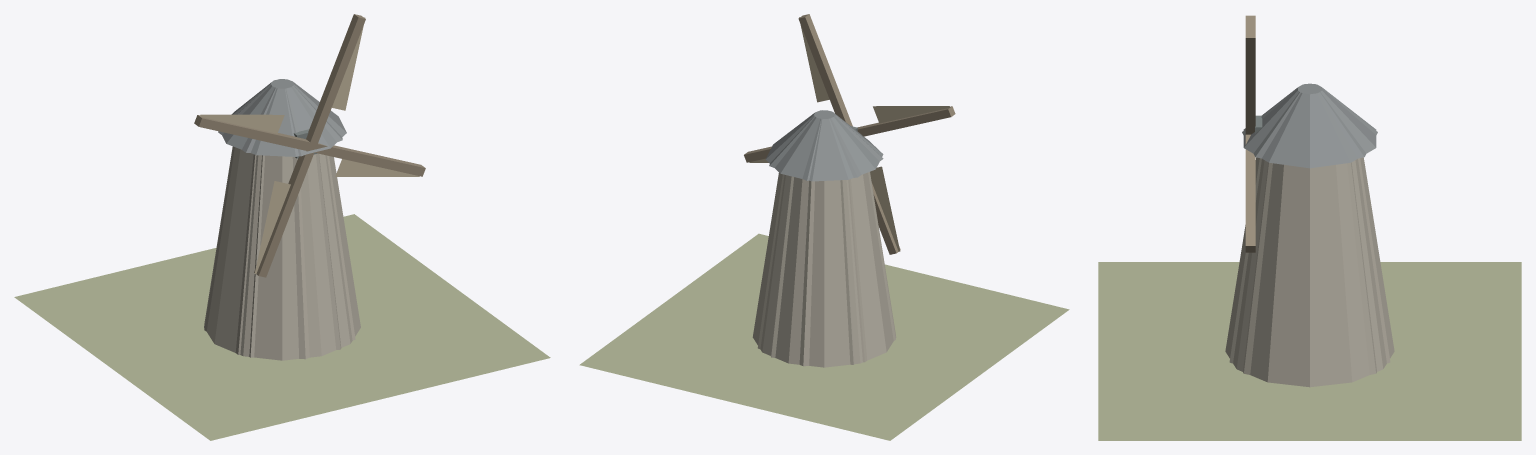
3 views of the same model, side by side, from view 1: azimuth 30°, elevation 25°; view 2: azimuth 150°, elevation 25°; view 3: azimuth 270°, elevation 25° (orthographic). The views are drawn at different scales.
Parts seen in each view (by area): view 1: Near, Mid, Far; view 2: Near, Mid, Far; view 3: Near, Mid, Far.
Boxes of the visible parts, x1,y1,x2,y2 form: Near: (14, 14, 550, 440); Mid: (204, 79, 355, 359); Far: (204, 79, 341, 357); Near: (579, 14, 1069, 440); Mid: (757, 110, 895, 366); Far: (770, 116, 894, 364); Near: (1098, 15, 1521, 440); Mid: (1242, 84, 1377, 374); Far: (1229, 85, 1390, 363).
Size of the model in its own units: 2 by 1.8 by 2.
